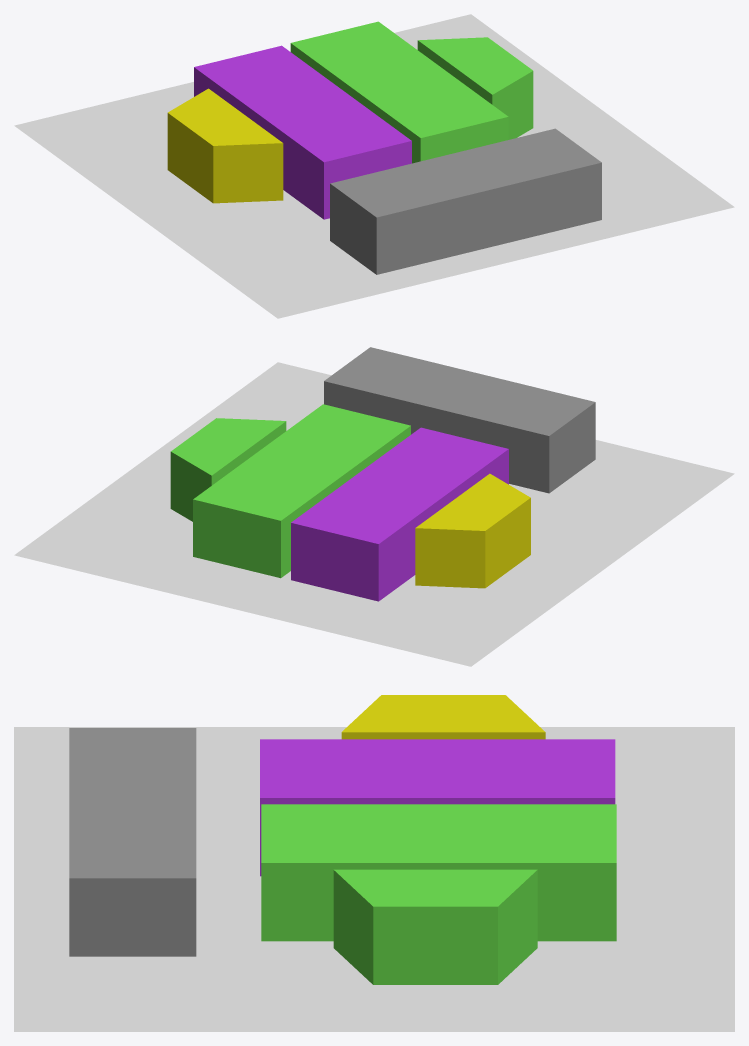
Rendered from teste.glb.
The picture shows the model from 3 angles, top to bottom: view 1: azimuth 30°, elevation 25°; view 2: azimuth 150°, elevation 25°; view 3: azimuth 270°, elevation 25°; orthographic projection. The views are drawn at different scales.
Parts seen in each view (by area): view 1: Floor_4, Space_4546, Cube.004, Space_54; view 2: Floor_4, Space_4546, Space_54, Cube.004; view 3: Floor_4, Space_54, Space_4546, Cube.004.
Boxes of the visible parts, x1,y1,x2,y2 form: Floor_4: [14, 14, 734, 318]; Space_4546: [167, 45, 411, 219]; Cube.004: [330, 128, 601, 274]; Space_54: [290, 21, 533, 163]; Floor_4: [14, 362, 734, 666]; Space_4546: [291, 427, 530, 601]; Space_54: [170, 404, 410, 578]; Cube.004: [324, 347, 595, 493]; Floor_4: [14, 727, 734, 1031]; Space_54: [261, 804, 616, 984]; Space_4546: [260, 695, 615, 876]; Cube.004: [69, 728, 196, 956].
Bounding box in the file's own units: 11.93 × 1.55 × 11.93.
